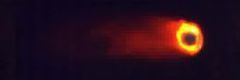keyhole: (180, 30, 198, 47)
